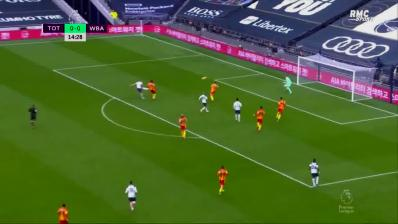football: (199, 75, 208, 81)
player: (306, 156, 322, 188), (124, 180, 138, 214), (216, 164, 230, 196), (253, 106, 267, 133), (274, 96, 287, 124), (130, 79, 148, 98), (177, 114, 189, 140), (232, 97, 243, 125), (197, 91, 210, 113), (282, 73, 294, 96), (148, 78, 159, 100), (208, 80, 219, 101)
referee: (26, 102, 39, 131)
